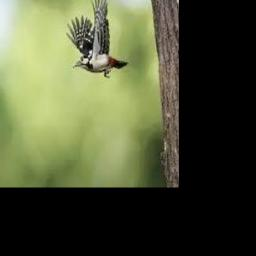Woodpecker: (65, 0, 128, 78)
